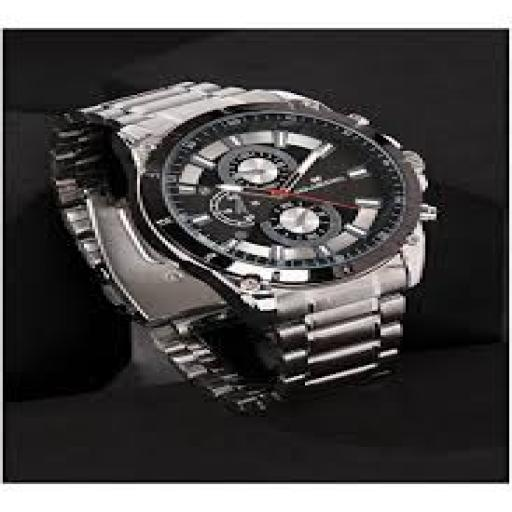KolSaati: (41, 64, 448, 429)
